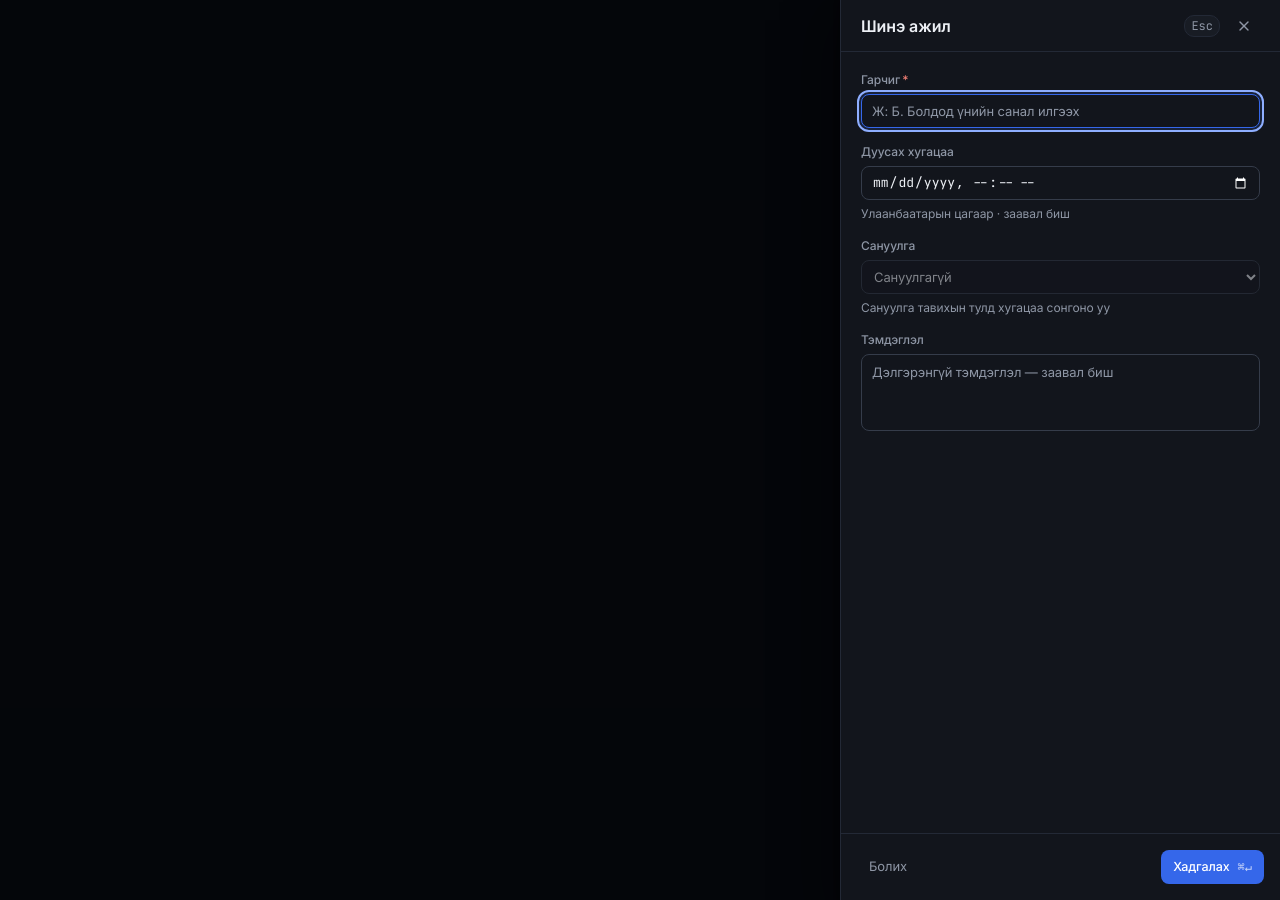
Test: «Ажил нэмэх» quick create › keeps the form and shows the server error inline when saving fails
This screenshot has width=1280, height=900.
Type "Гэрээ шалгах" into the field labelled "Гарчиг".
click(1060, 111); type("Гэрээ шалгах")  # box [861, 94, 1260, 128]
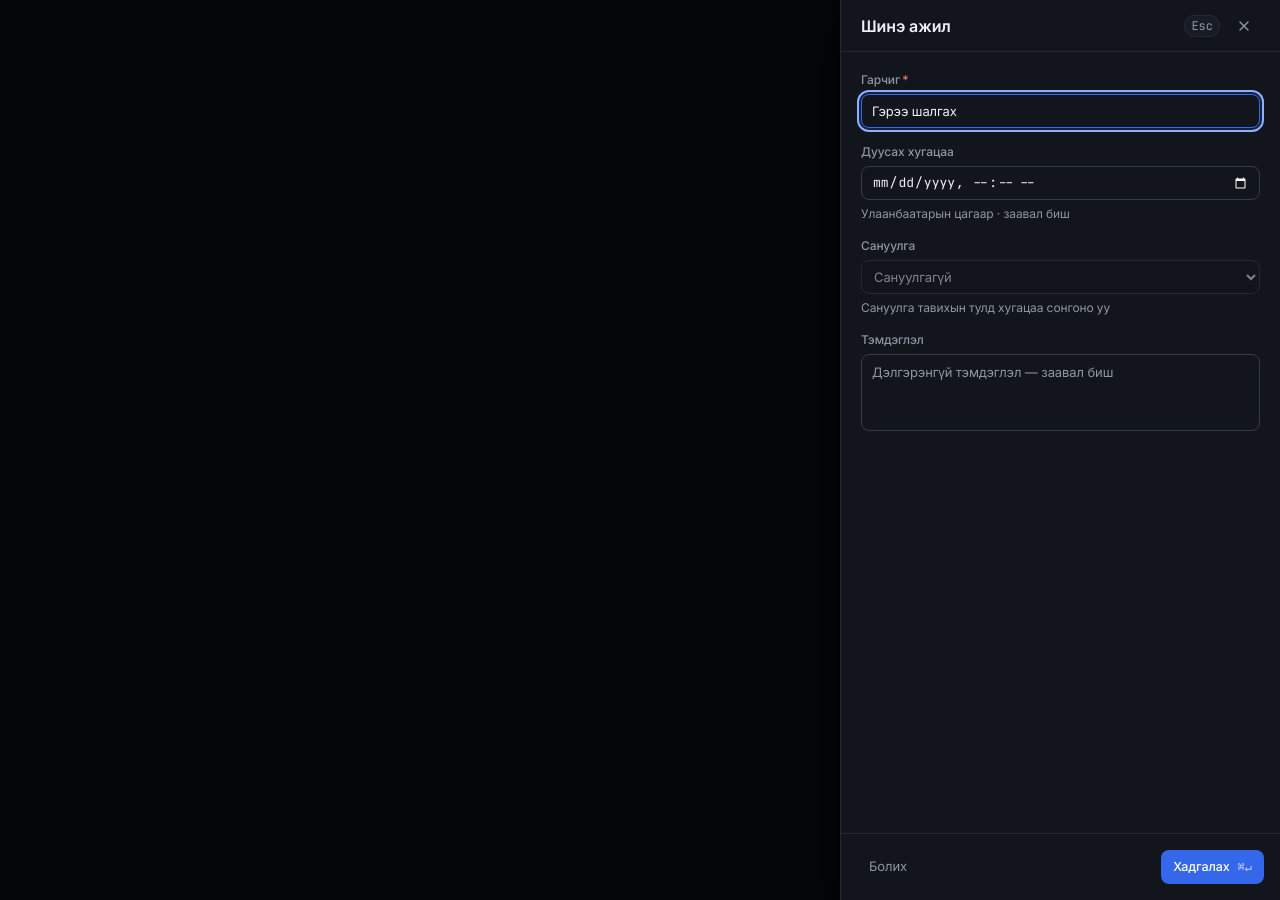
Click the button "Хадгалах ⌘↵".
click(1213, 867)  # box [1161, 850, 1264, 884]
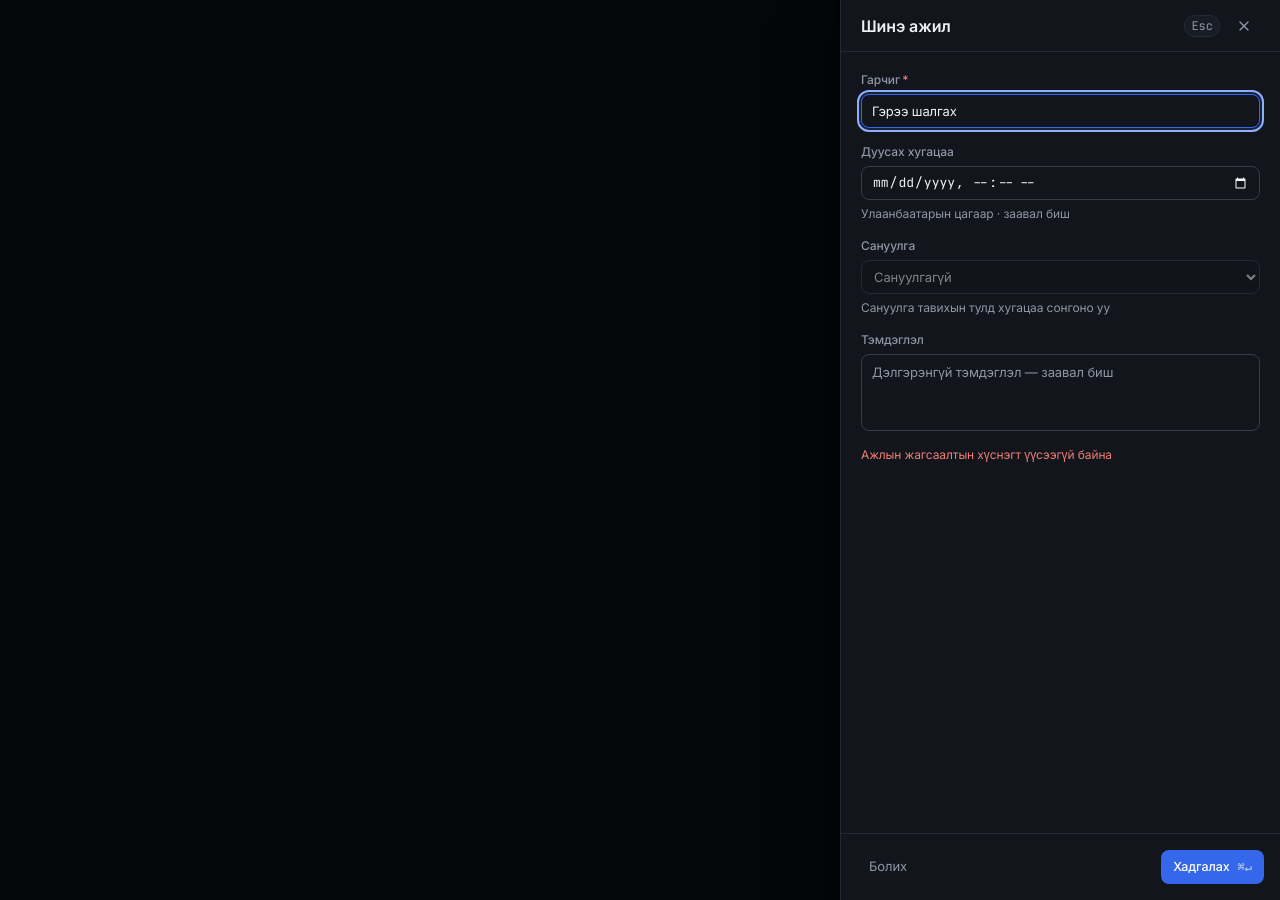
Result: the message reads "Ажлын жагсаалтын хүснэгт үүсээгүй байна" at [861, 446, 1112, 462]
